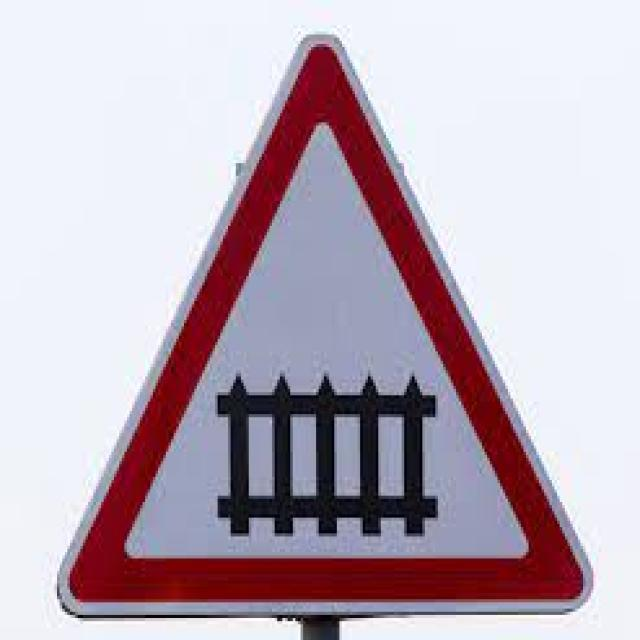guarded level crossing: (53, 37, 594, 617)
